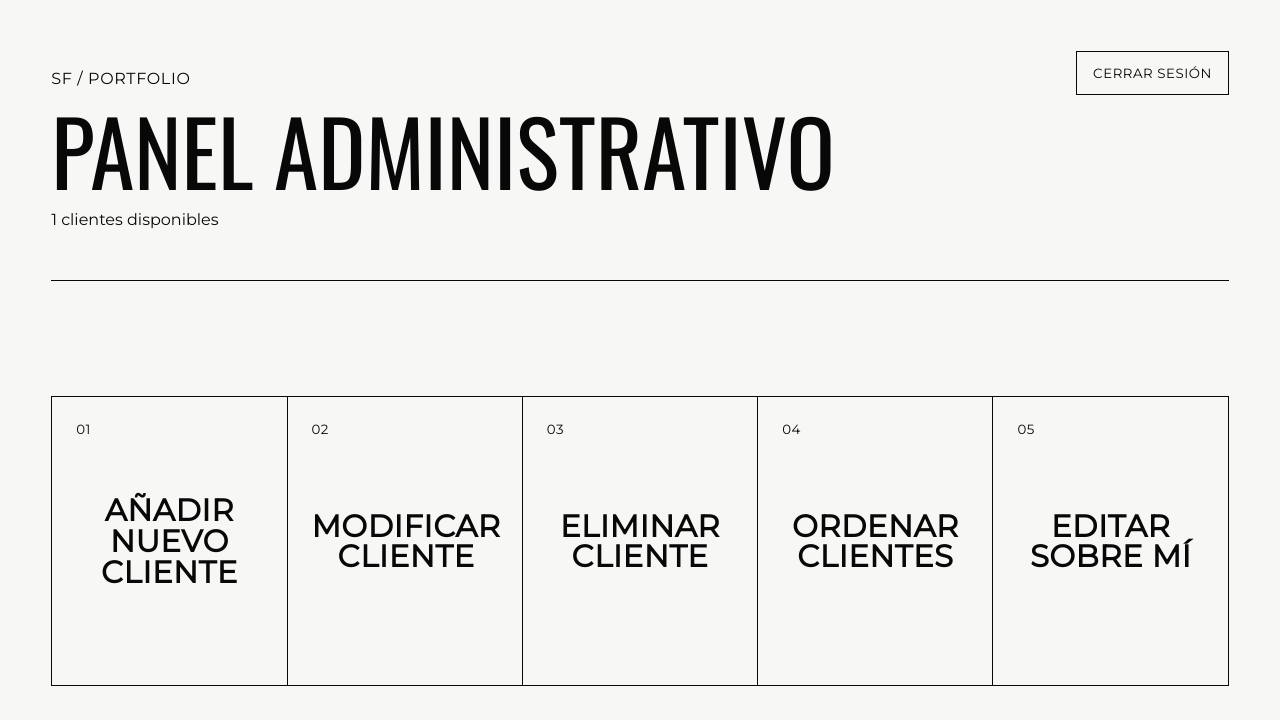
Test case: private portfolio admin › keeps one working Cancel action in the sticky create form actions
The width and height of the screenshot is (1280, 720).
Click the button "01 Añadir nuevo cliente".
click(169, 542)  # box x1=52 y1=398 x2=286 y2=686
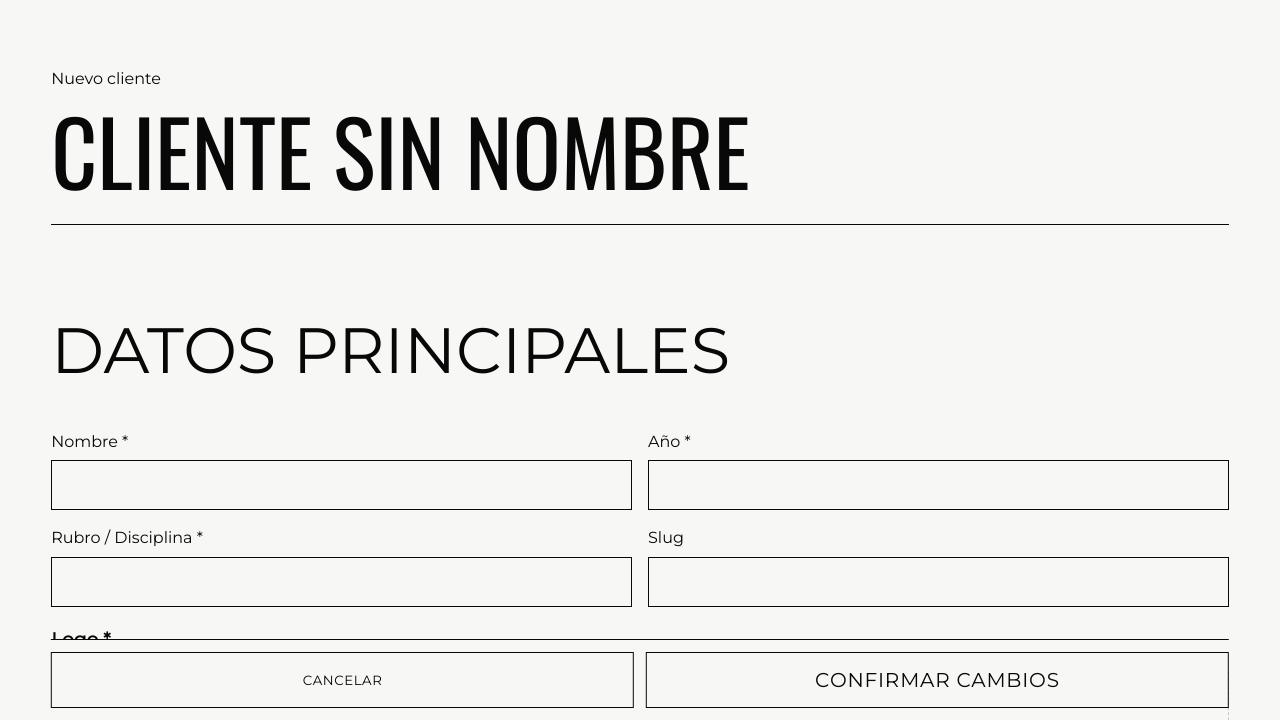
expect the number of buttons "Cancelar" is 1: met
expect the element "Cancelar" is shown: met, box x1=51 y1=639 x2=1229 y2=719
Click the button "Cancelar".
click(343, 680)  # box x1=51 y1=652 x2=634 y2=708
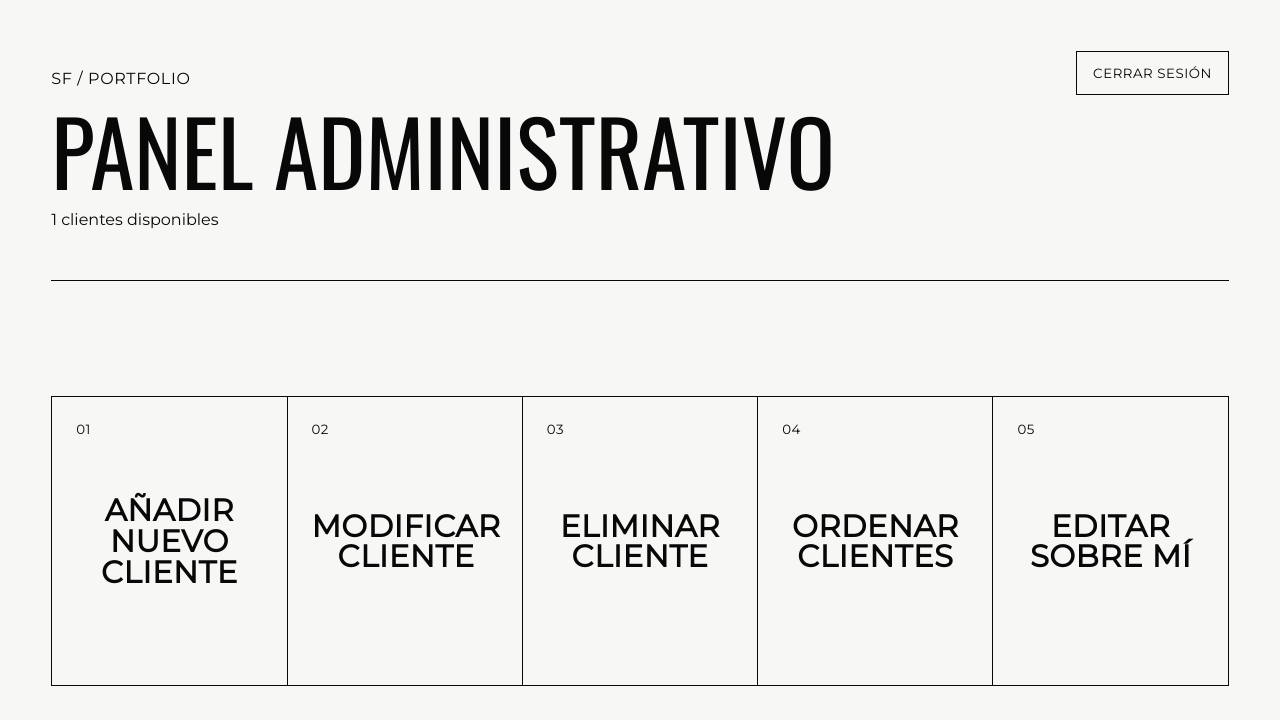
expect the button "02 Modificar cliente" is shown: met, box x1=288 y1=398 x2=522 y2=686
